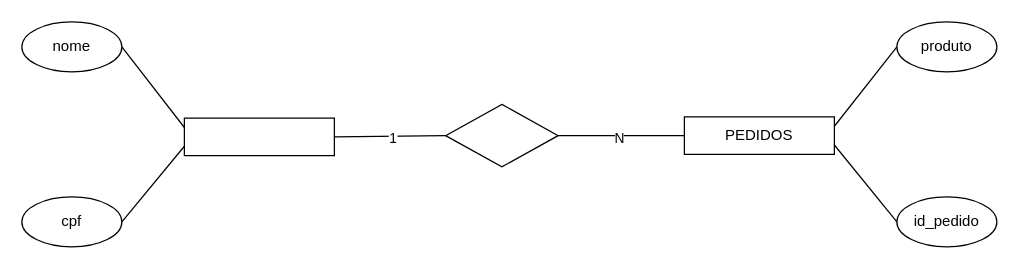
This 1019x269 diagram has some shape labels left out. Each missing label, with the centre of its shape:
"CLIENTE" belongs at [258,136].
"FAZ" belongs at [501,135].
